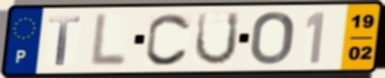1: (304, 10, 327, 65)
C: (143, 12, 193, 68)
L: (87, 11, 130, 69)
O: (248, 9, 297, 67)
T: (47, 14, 83, 67)
U: (192, 10, 242, 68)
